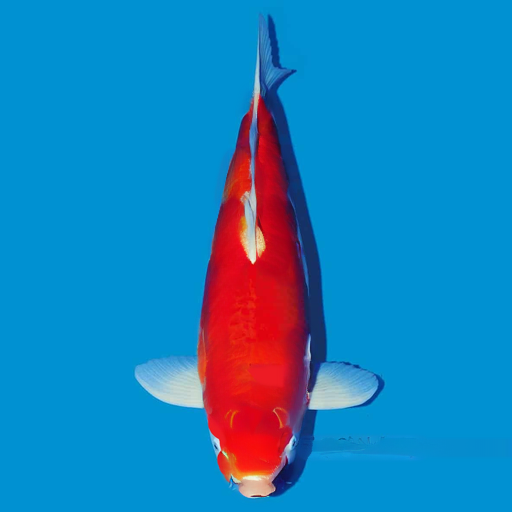red: (133, 11, 385, 499)
